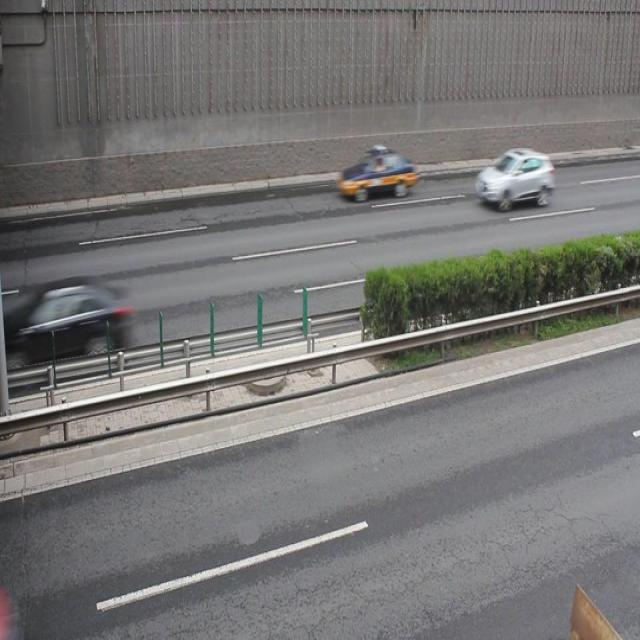car: (29, 276, 127, 360), (475, 148, 553, 208), (338, 149, 415, 199)
